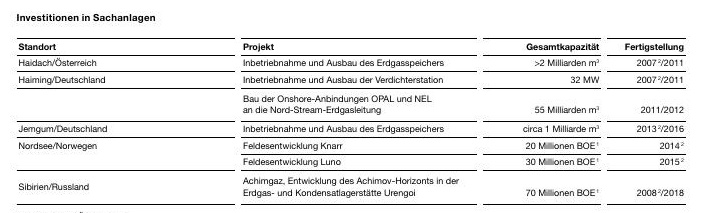table: (0, 0, 701, 213)
